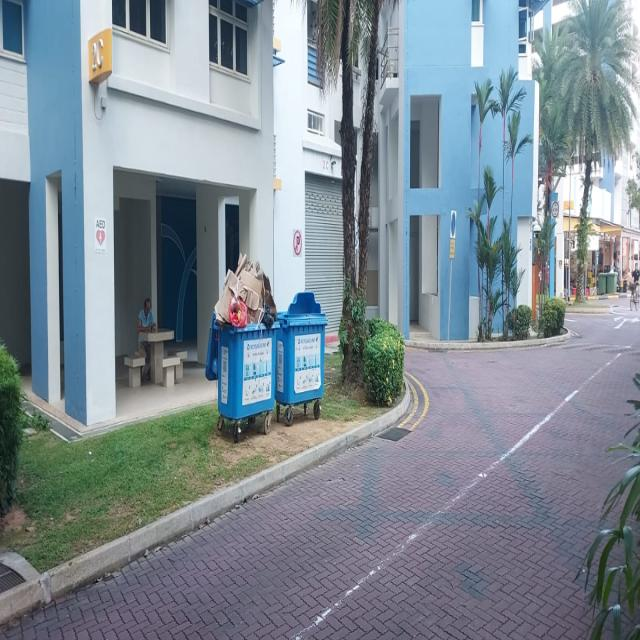bin_empty: (272, 293, 326, 423)
bin_full: (213, 260, 275, 442)
bulk_waste: (218, 264, 267, 327)
